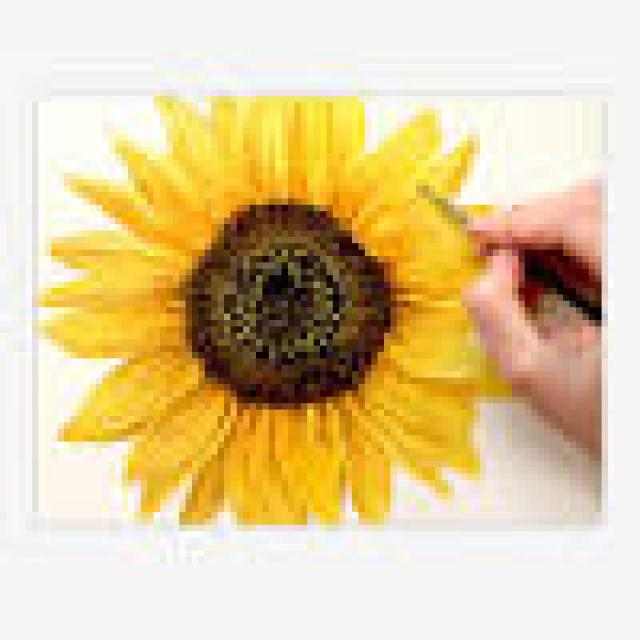sunflower: (48, 99, 528, 541)
